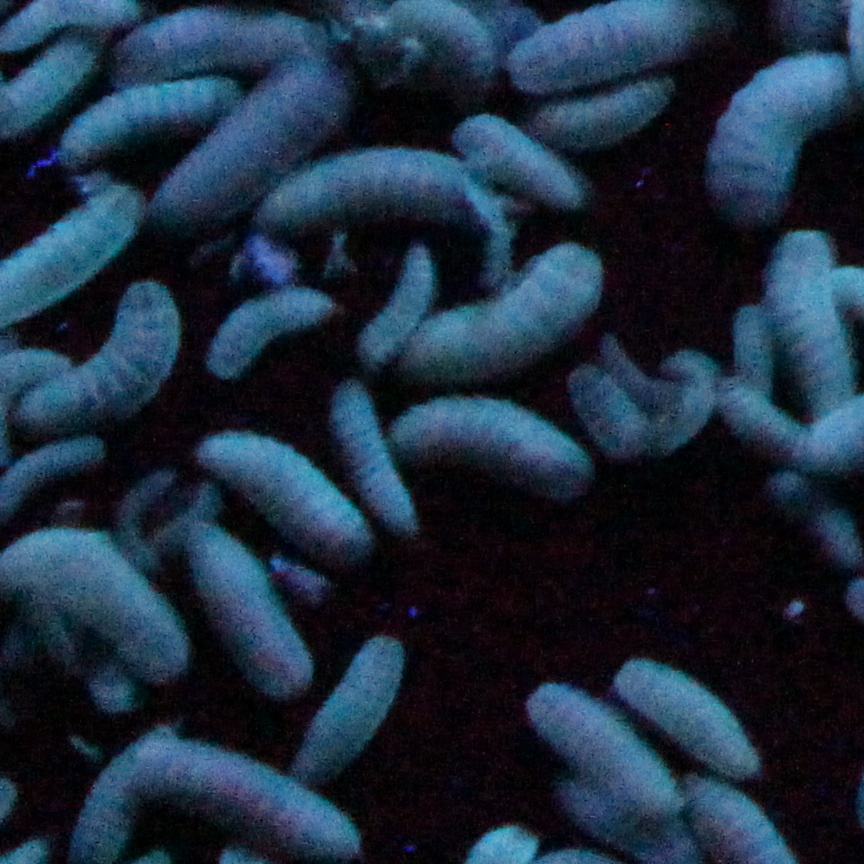larve: (158, 59, 363, 233), (3, 525, 185, 685), (130, 740, 363, 859), (399, 244, 599, 375), (703, 45, 854, 211), (522, 673, 685, 823), (172, 523, 308, 697), (29, 278, 180, 426), (261, 142, 503, 232), (196, 440, 372, 561), (387, 402, 594, 499), (616, 658, 768, 776), (61, 75, 251, 163), (294, 632, 403, 785), (104, 6, 325, 80), (325, 378, 420, 537), (769, 233, 854, 405), (456, 116, 585, 209), (210, 287, 337, 375), (535, 75, 684, 144)
